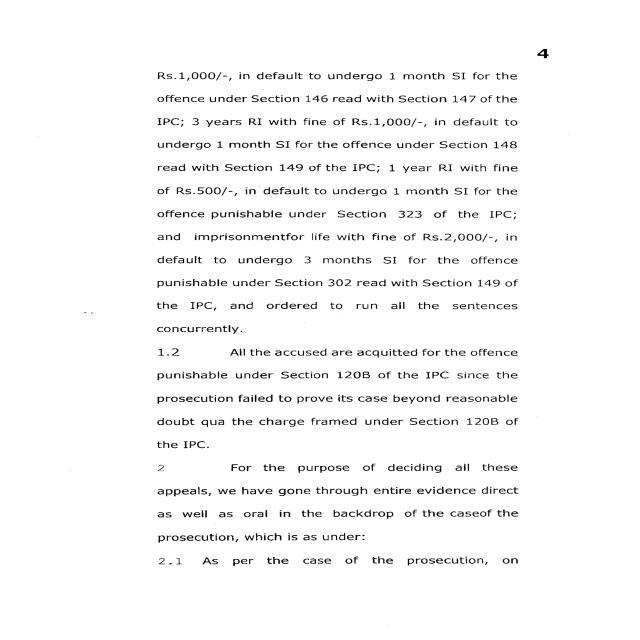page-number: (426, 0, 640, 70)
